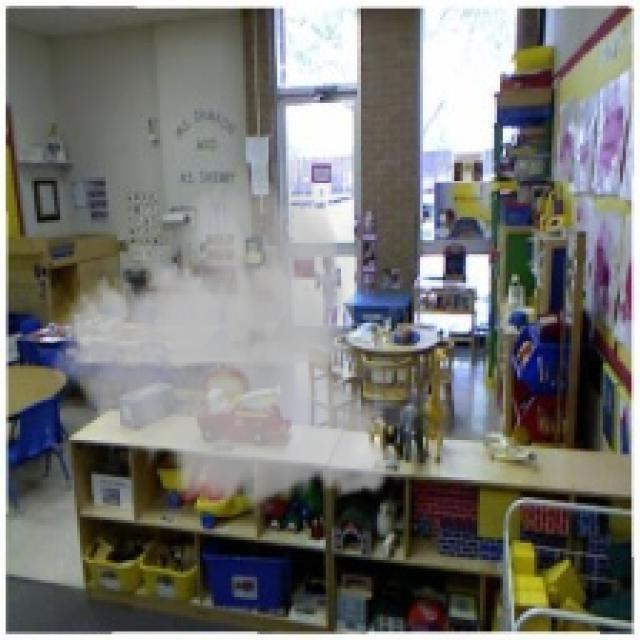Smoke: (39, 163, 412, 520)
